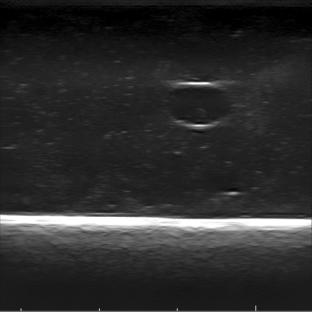vessel: (164, 82, 231, 130)
